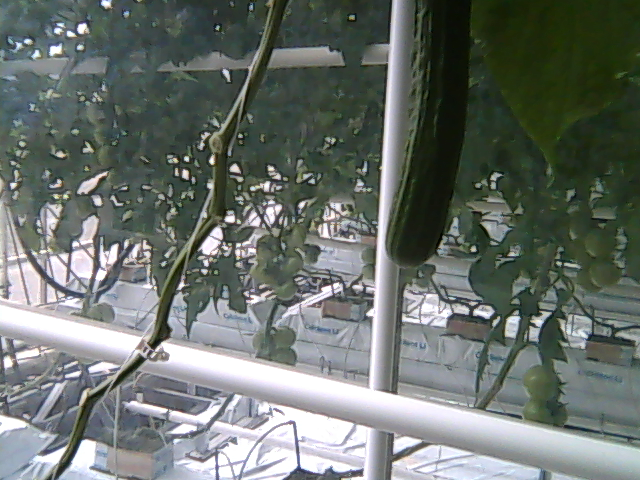concombre: (385, 2, 477, 272)
